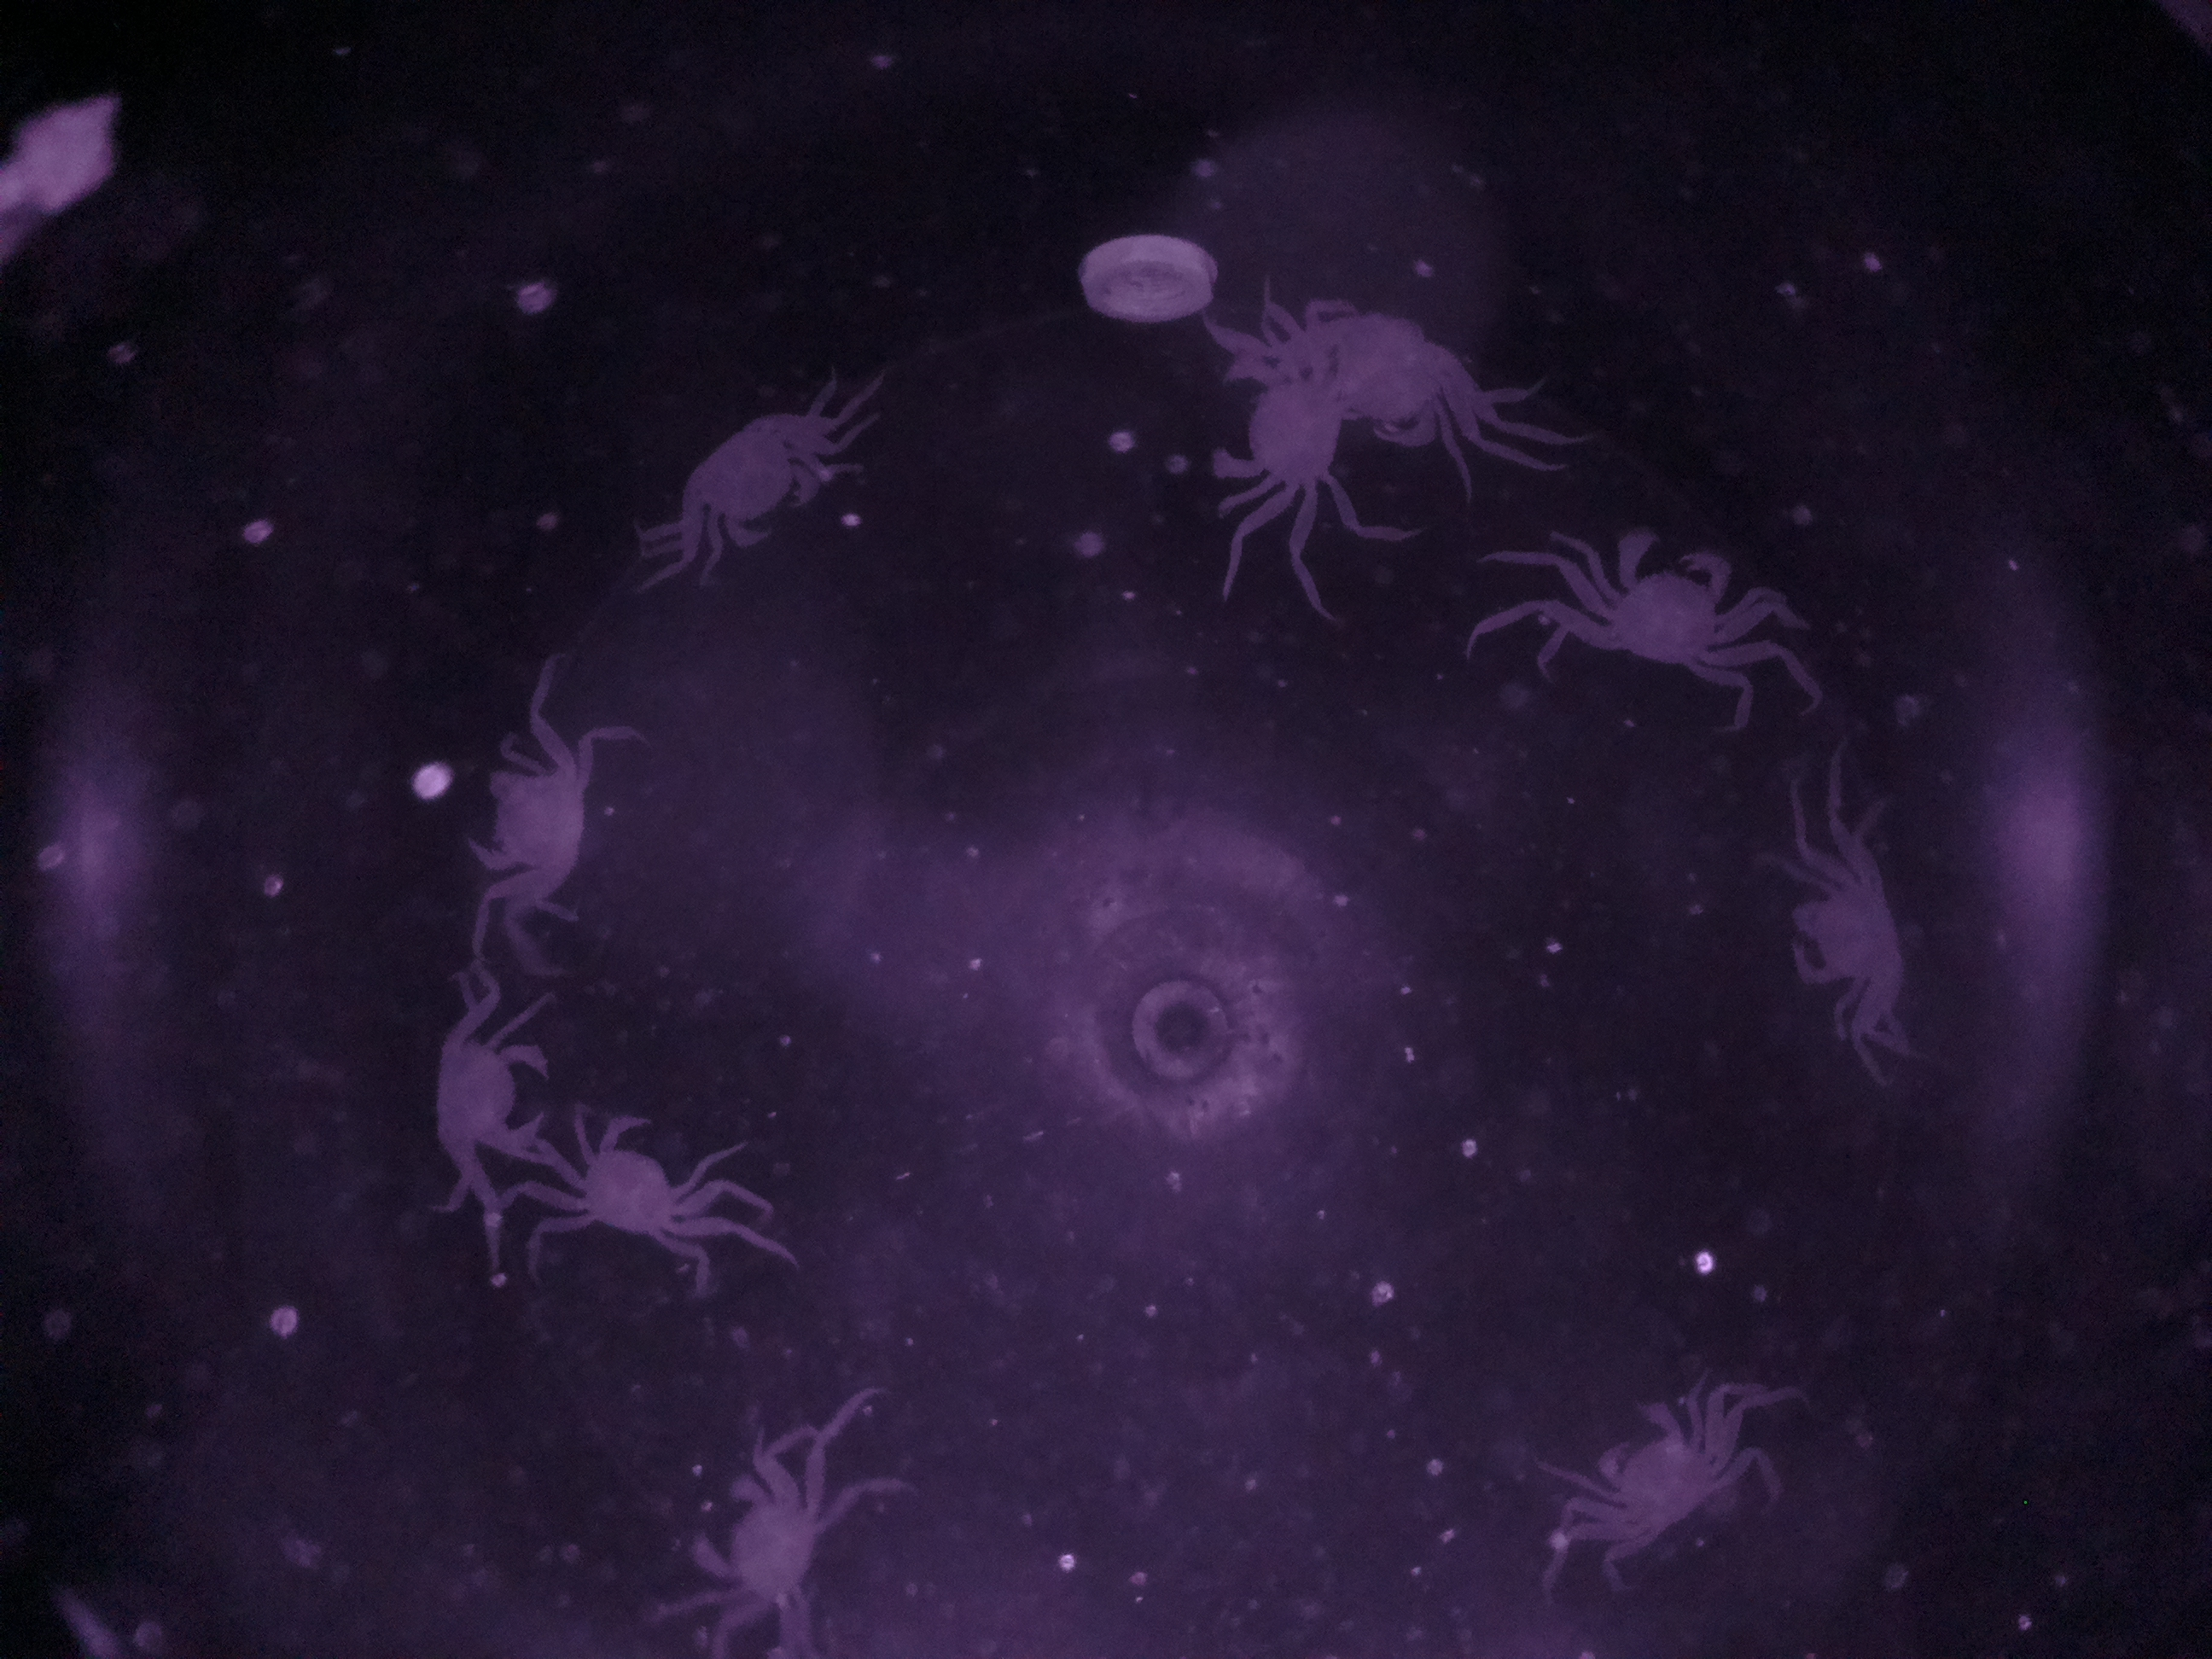Crab: (1538, 1382, 1763, 1565), (1184, 328, 1367, 533), (1561, 519, 1764, 692), (455, 711, 610, 936), (665, 1424, 827, 1619), (672, 401, 841, 573), (1768, 836, 1919, 1023), (549, 1103, 730, 1256), (421, 993, 549, 1175)
